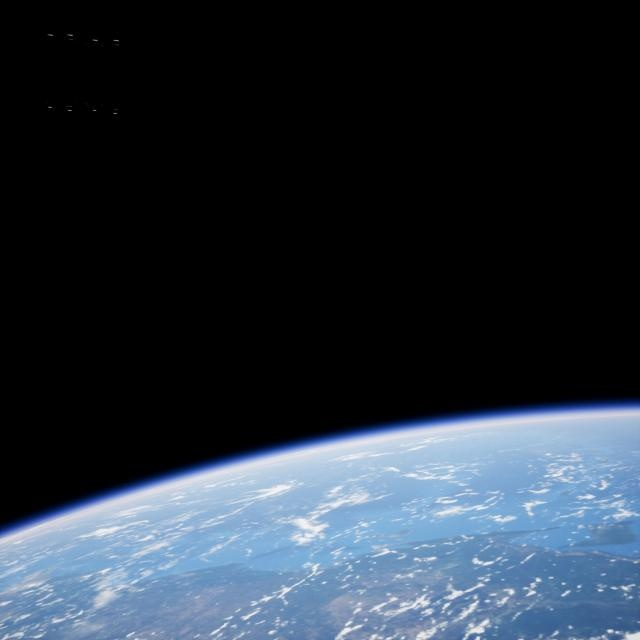medium_debris: (30, 22, 131, 126)
